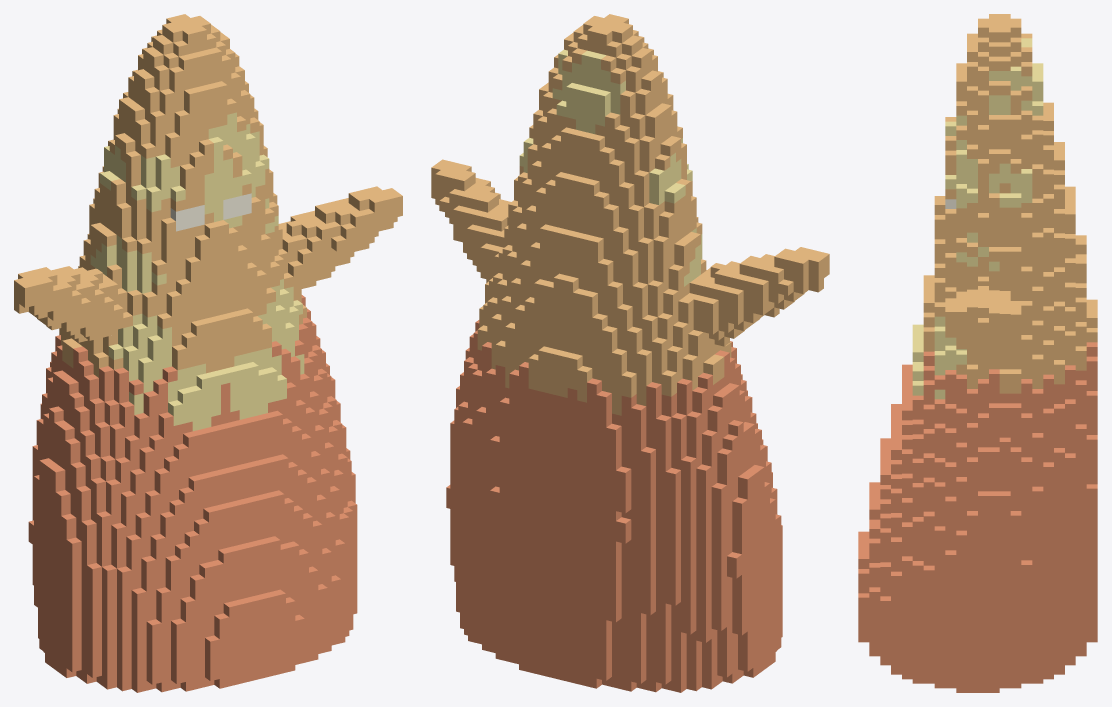
Rendered from fire_elemental.glb.
3 renders of one model, left to right at view 1: azimuth 30°, elevation 25°; view 2: azimuth 150°, elevation 25°; view 3: azimuth 270°, elevation 25°, orthographic. The views are drawn at different scales.
Visible parts, largest first — view 1: item; view 2: item; view 3: item.
Boxes of the visible parts, x1=… form: item: x1=14, y1=14, x2=402, y2=692; item: x1=431, y1=14, x2=829, y2=692; item: x1=858, y1=14, x2=1097, y2=692.
Size of the model in its own units: 40 by 61 by 22.
